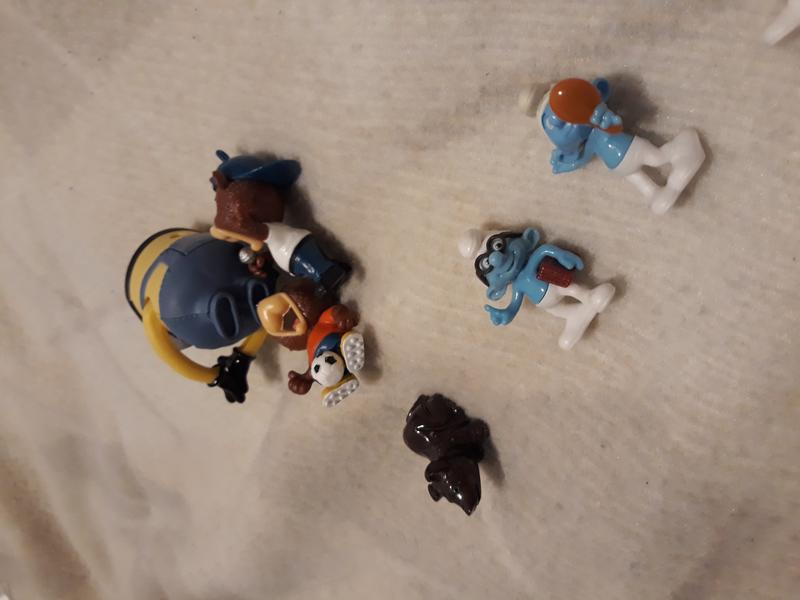strumf: (509, 48, 717, 225), (447, 222, 639, 359)
